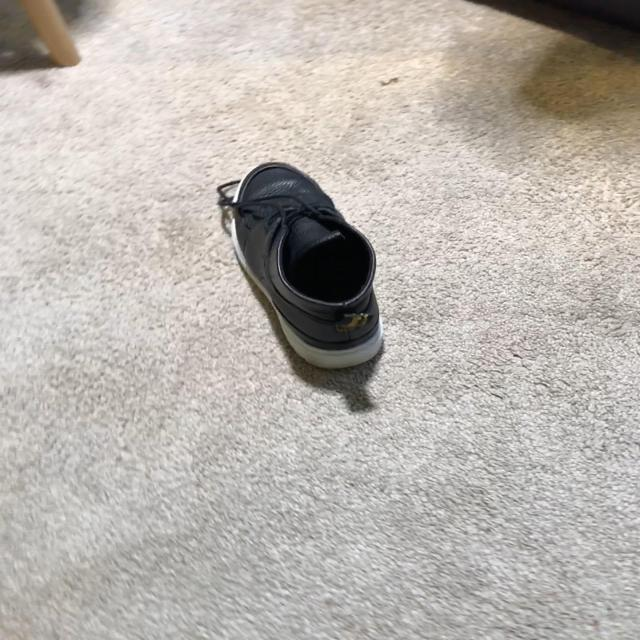shoe: (216, 161, 385, 375)
